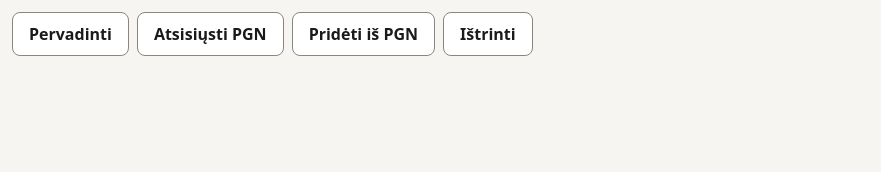
RepertoireActions › says how many players have it and that they can keep a copy (R-131)
Click the button "Ištrinti".
click(488, 34)  # box 443,12 -> 533,56
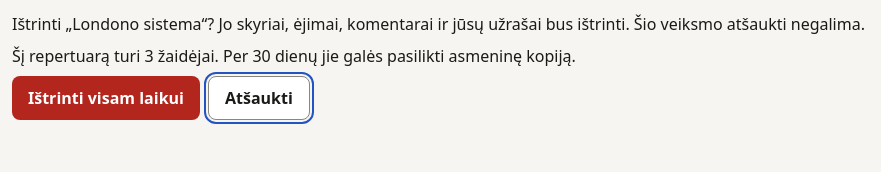
expect the text "Šį repertuarą turi 3 žaidėjai. Per 30 dienų jie galės pasilikti asmeninę kopiją." is shown: met, box 12,45 -> 576,67
